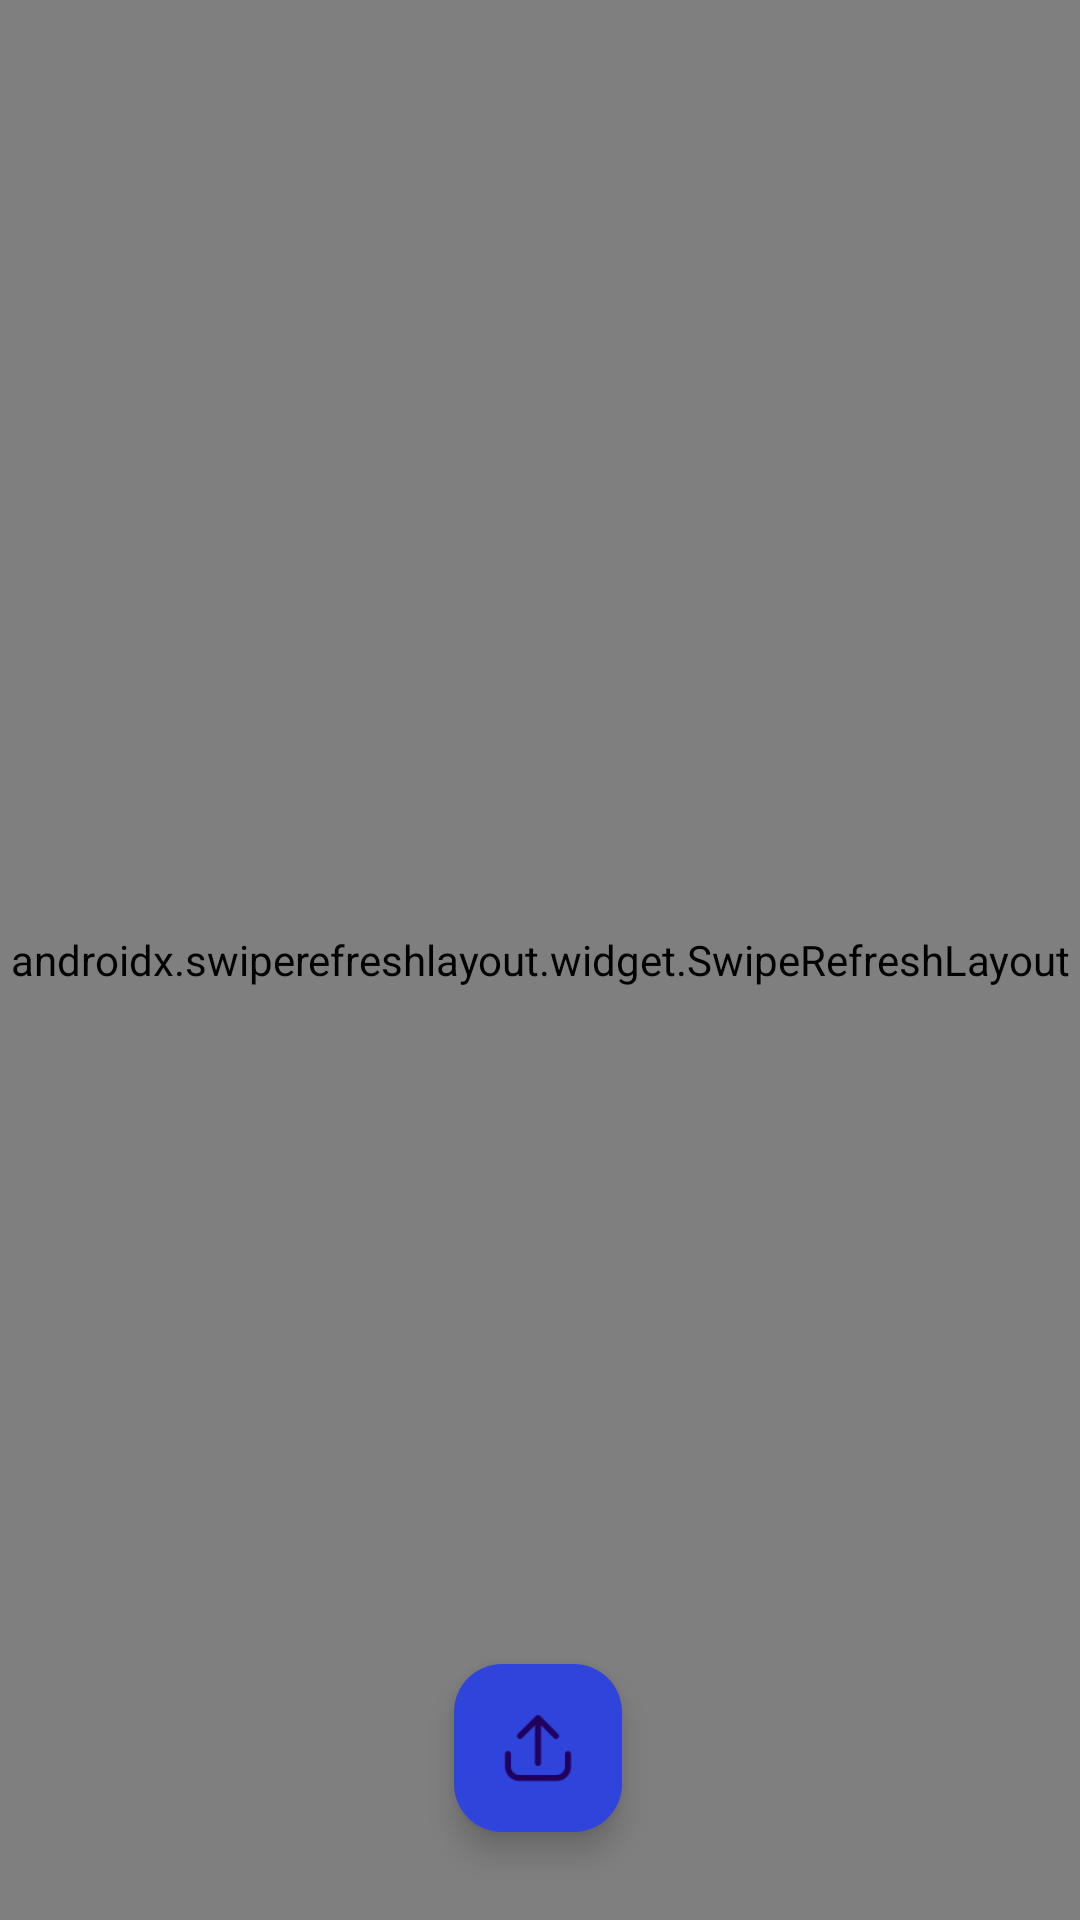

Icons on this 1080px×1920px Android screen, each with its box as detection(x1, y1, x2, y2):
Upload: detection(454, 1664, 622, 1832)
